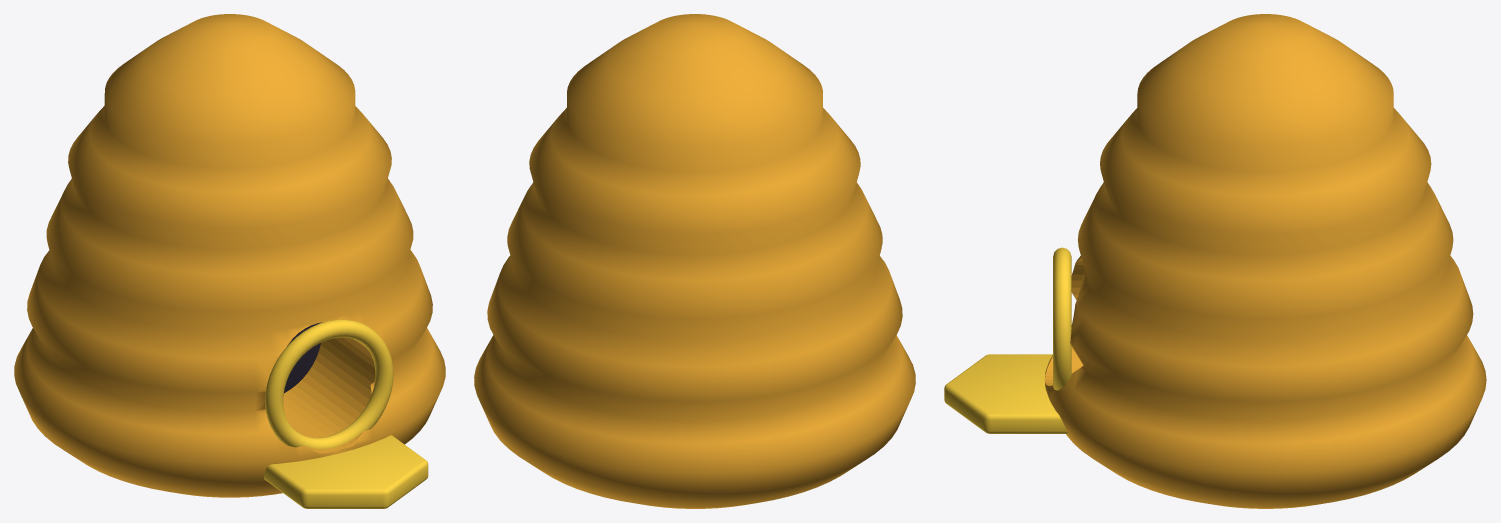
File: Collector.fbx
The picture shows the model from 3 angles, left to right: view 1: azimuth 30°, elevation 25°; view 2: azimuth 150°, elevation 25°; view 3: azimuth 270°, elevation 25°; orthographic projection. The views are drawn at different scales.
Visible parts, largest first — view 1: Collector_Honey_Shell.001, Collector_Landing_Step.001, Collector_Entrance_Lip.001, Collector_Entrance_Shadow.001; view 2: Collector_Honey_Shell.001; view 3: Collector_Honey_Shell.001, Collector_Landing_Step.001, Collector_Entrance_Lip.001.
Boxes of the visible parts, x1,y1,x2,y2 form: Collector_Honey_Shell.001: (14, 14, 445, 497); Collector_Landing_Step.001: (264, 435, 428, 508); Collector_Entrance_Lip.001: (265, 319, 393, 448); Collector_Entrance_Shadow.001: (284, 322, 320, 392); Collector_Honey_Shell.001: (474, 14, 915, 508); Collector_Honey_Shell.001: (1044, 14, 1486, 508); Collector_Landing_Step.001: (944, 354, 1067, 433); Collector_Entrance_Lip.001: (1053, 247, 1071, 390).
Size of the model in its own units: 200 by 212 by 245.
